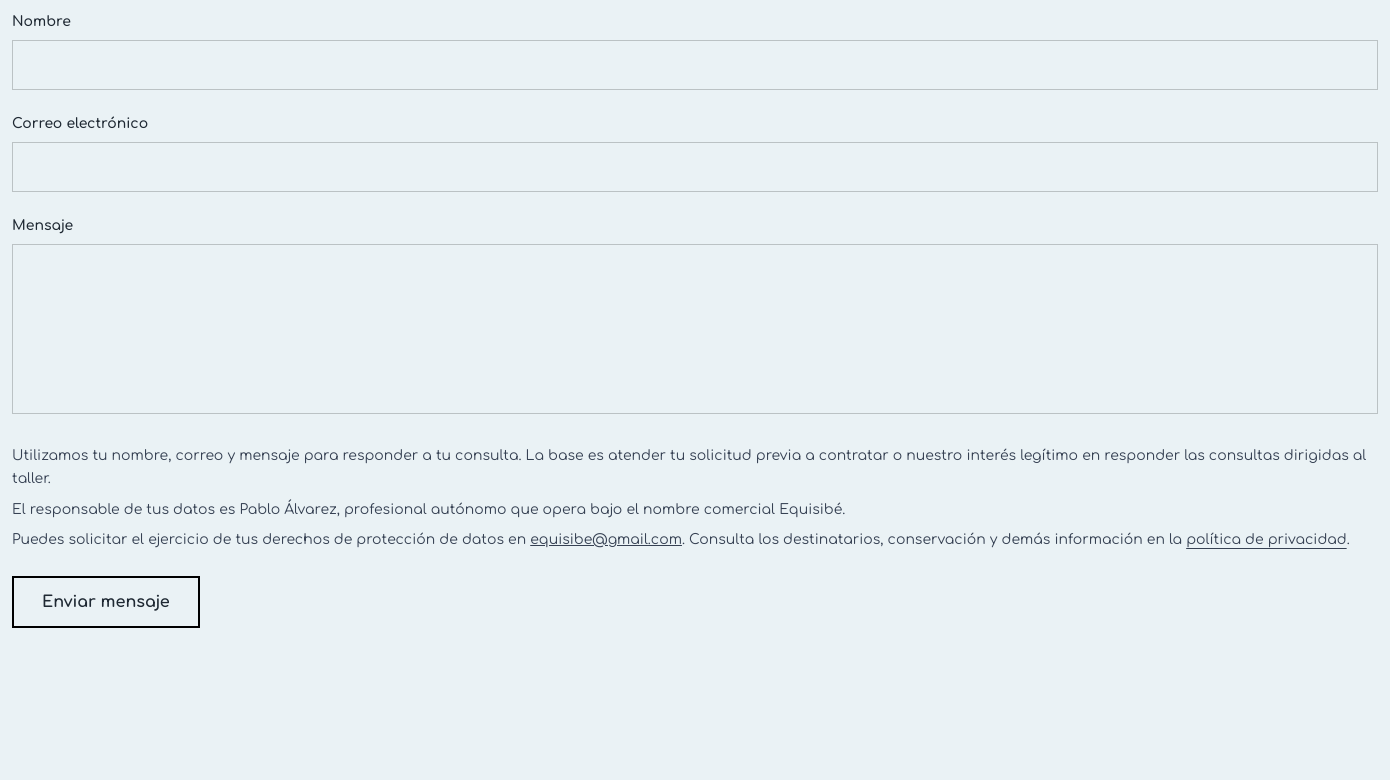
Test: ContactForm › shows an error and preserves the fields when sending fails
The image size is (1390, 780).
Type "Andrea" into the field with id "name". click: (695, 65)
box: left=12, top=40, right=1378, bottom=90
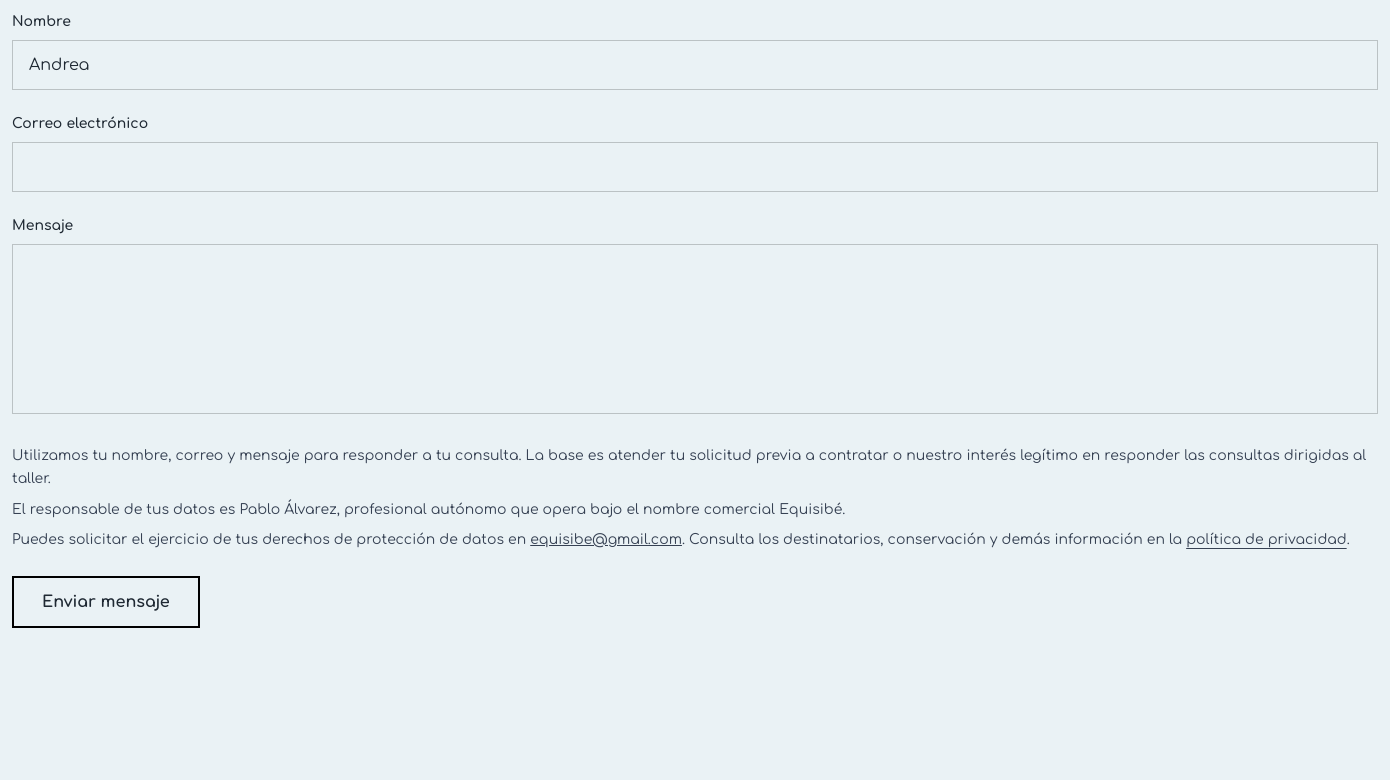
Type "andrea@email.com" into the field with id "email". click: (695, 167)
box: left=12, top=142, right=1378, bottom=192
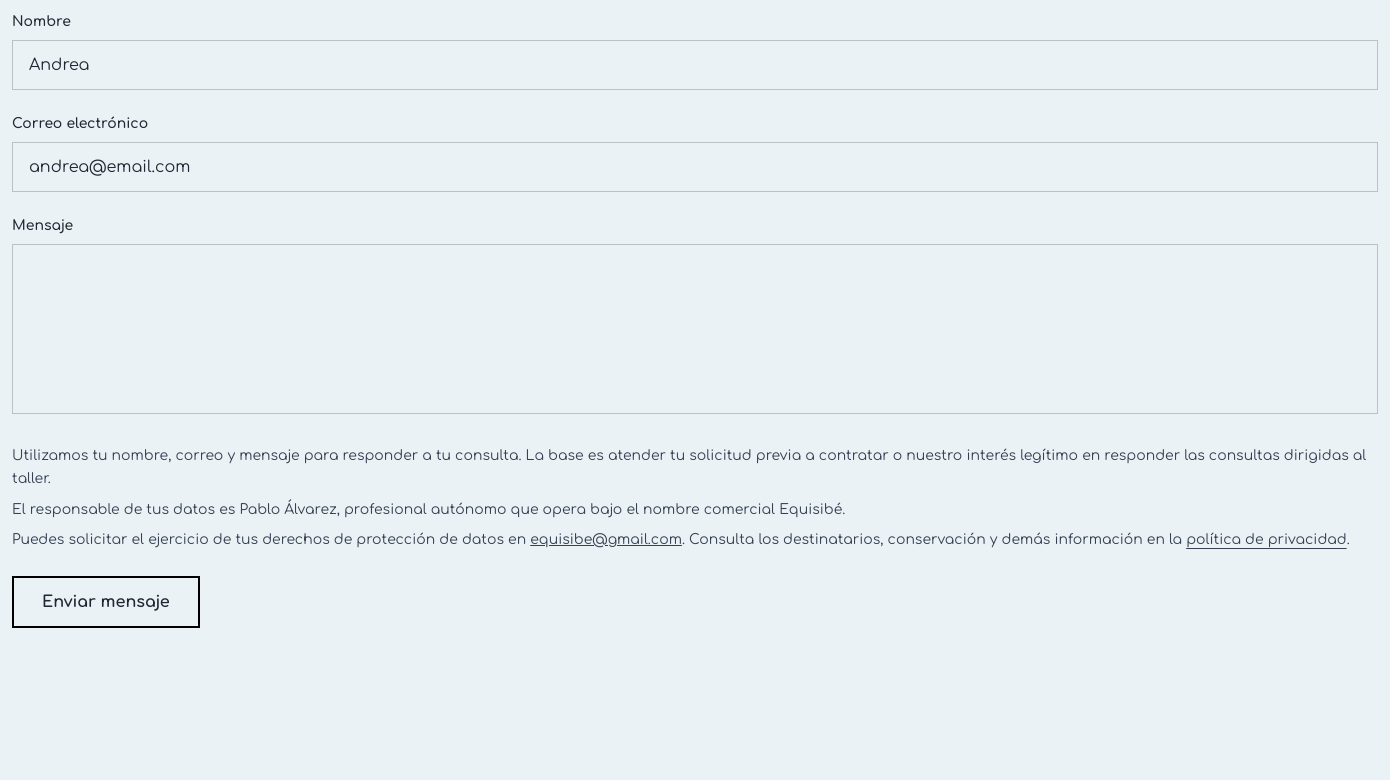
Type "Quiero información" into the text box with id "message". click: (695, 329)
box: left=12, top=244, right=1378, bottom=414
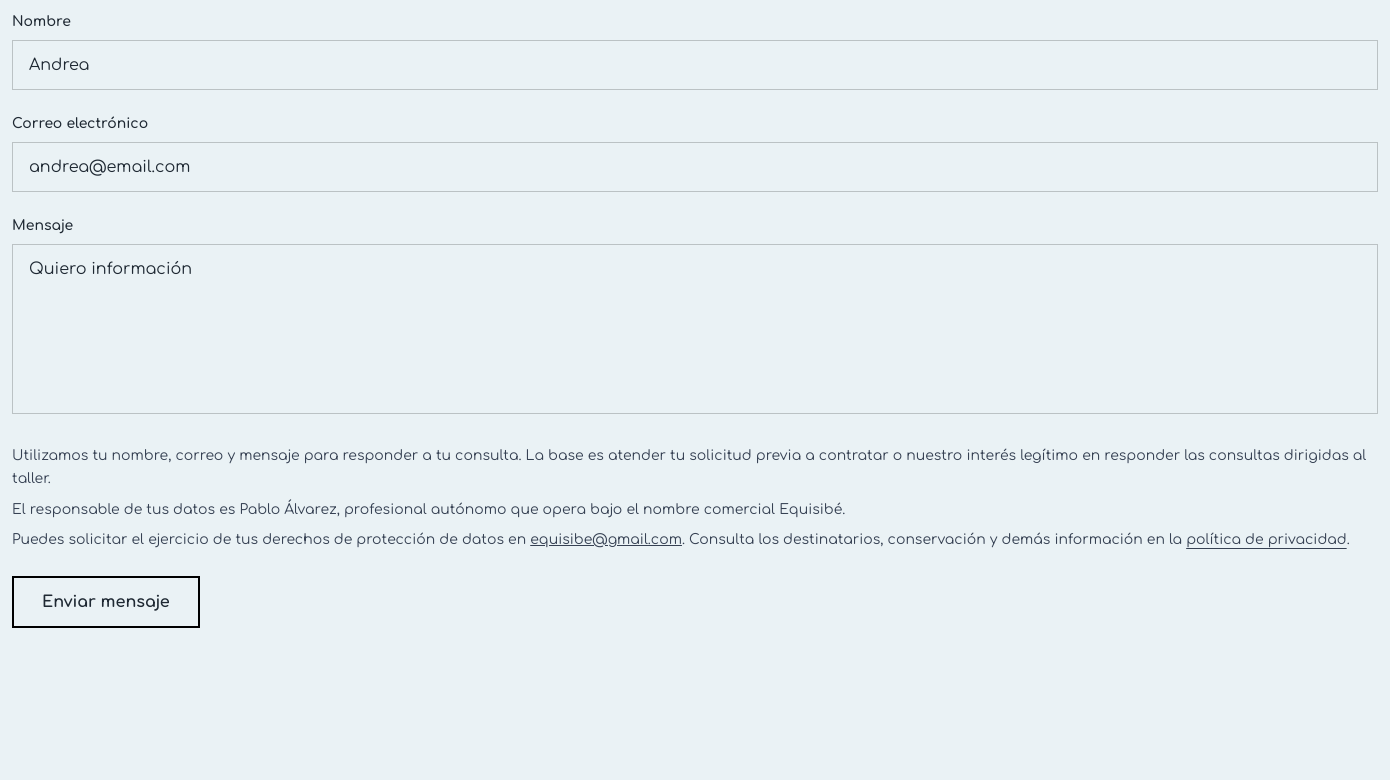
Submit the form
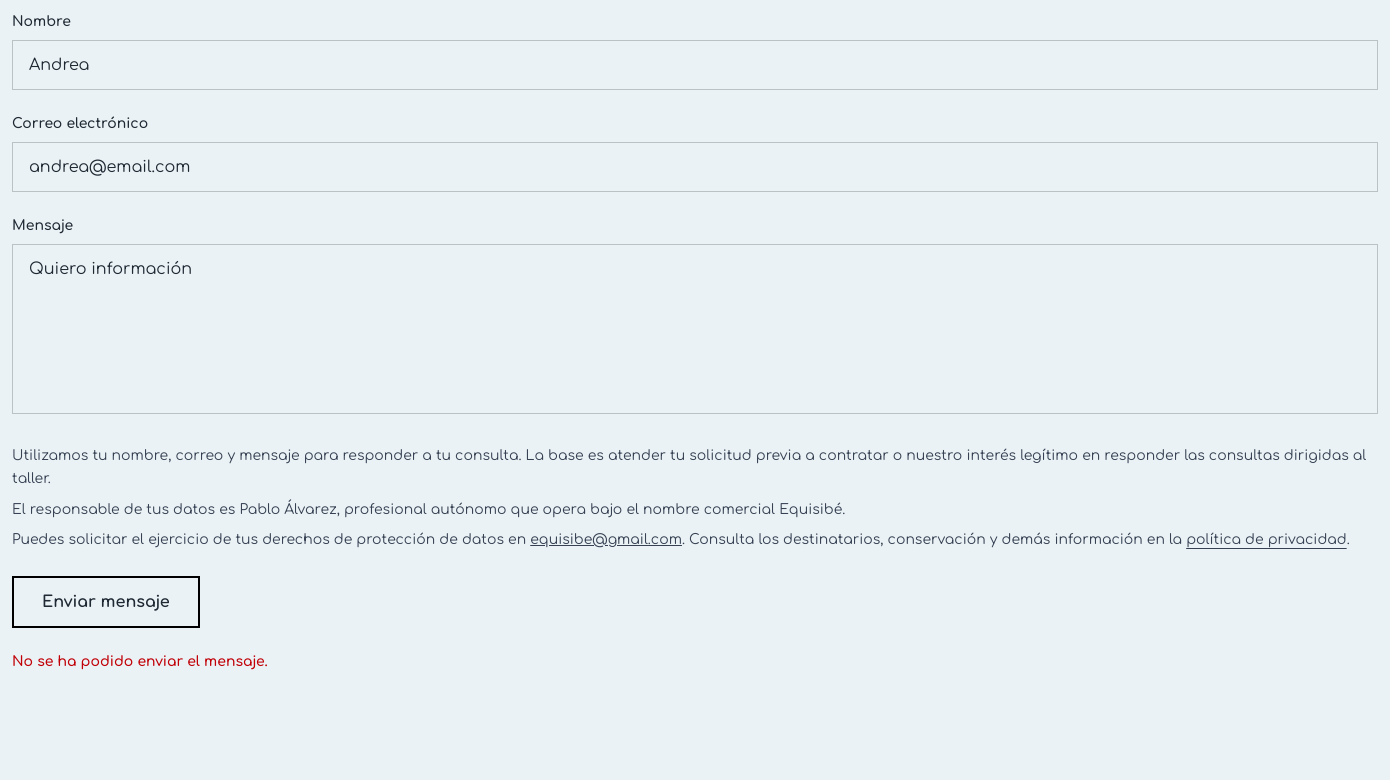
Expected: the submit button is enabled, left=12, top=576, right=200, bottom=628
Result: the message "No se ha podido enviar el mensaje." is shown at left=12, top=654, right=268, bottom=669
